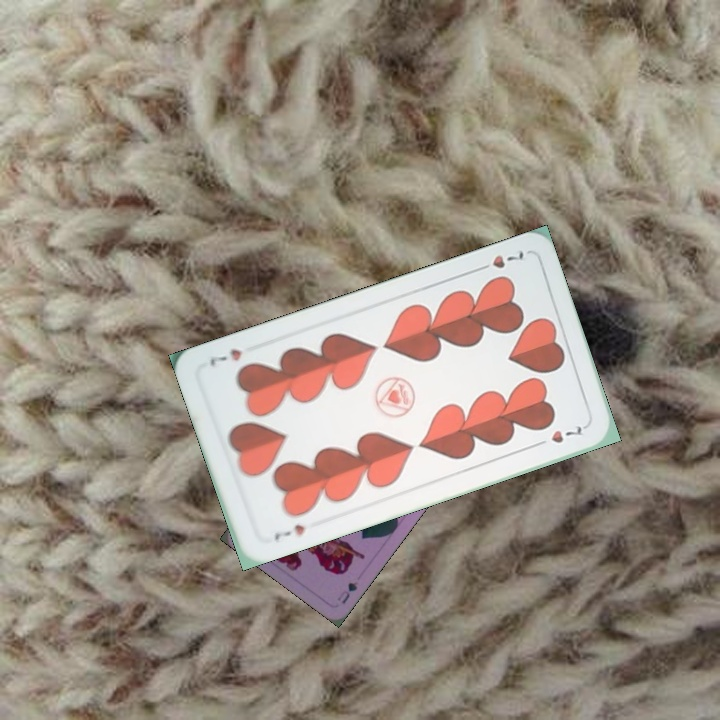GU: (333, 577, 360, 606)
H7: (472, 246, 527, 275), (270, 520, 308, 543)
